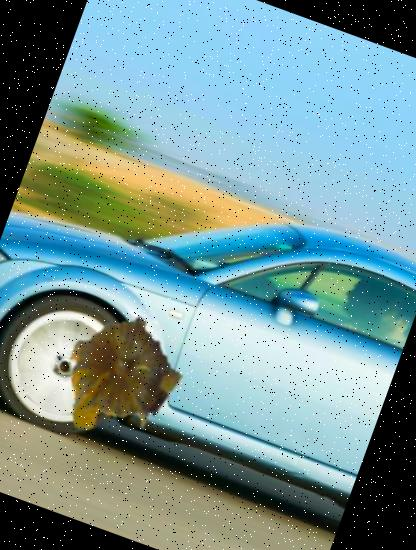Physalis: (31, 292, 201, 462)
